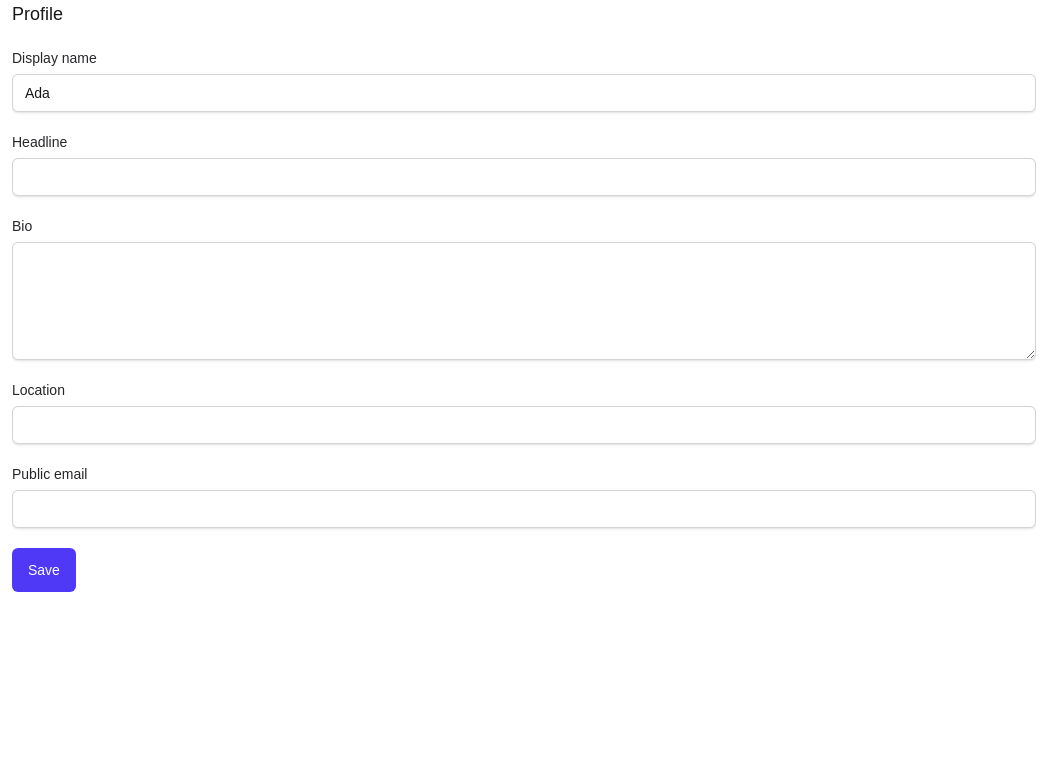
Scenario: ProfileEditor › preserves edits and offers recovery on a revision conflict
Replace the text in the field labelled "Display name" with "My local edit": (524, 93) [12,74,1036,112]
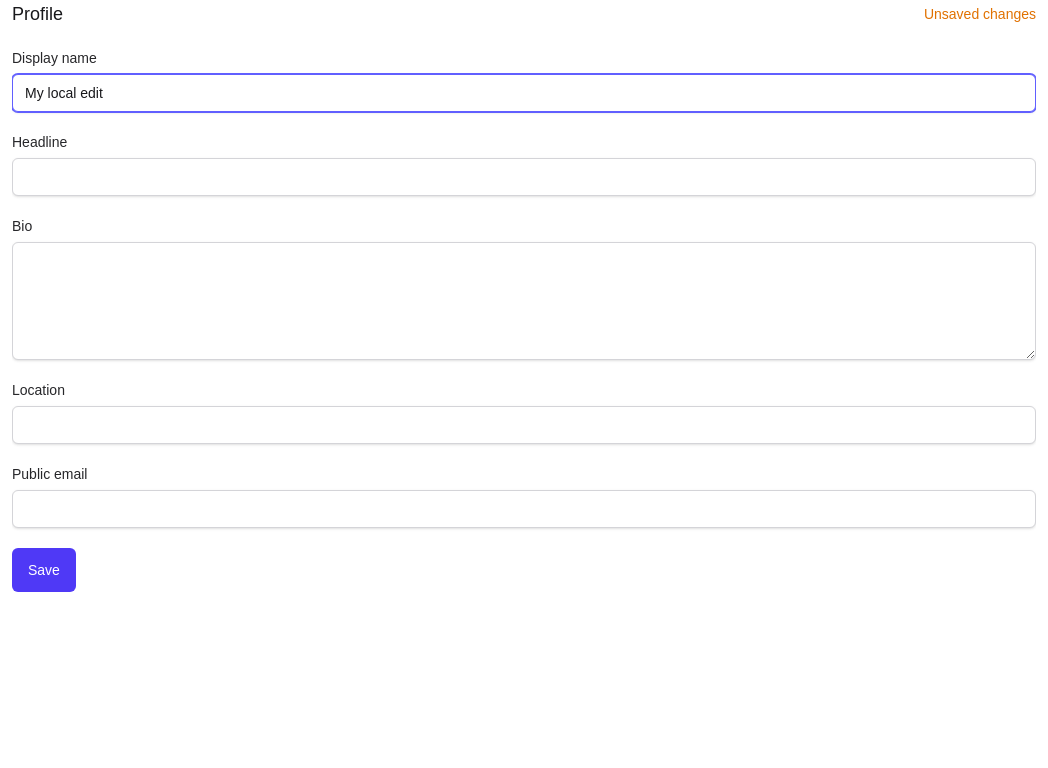
Click the button "Save": (44, 570) [12,548,76,592]
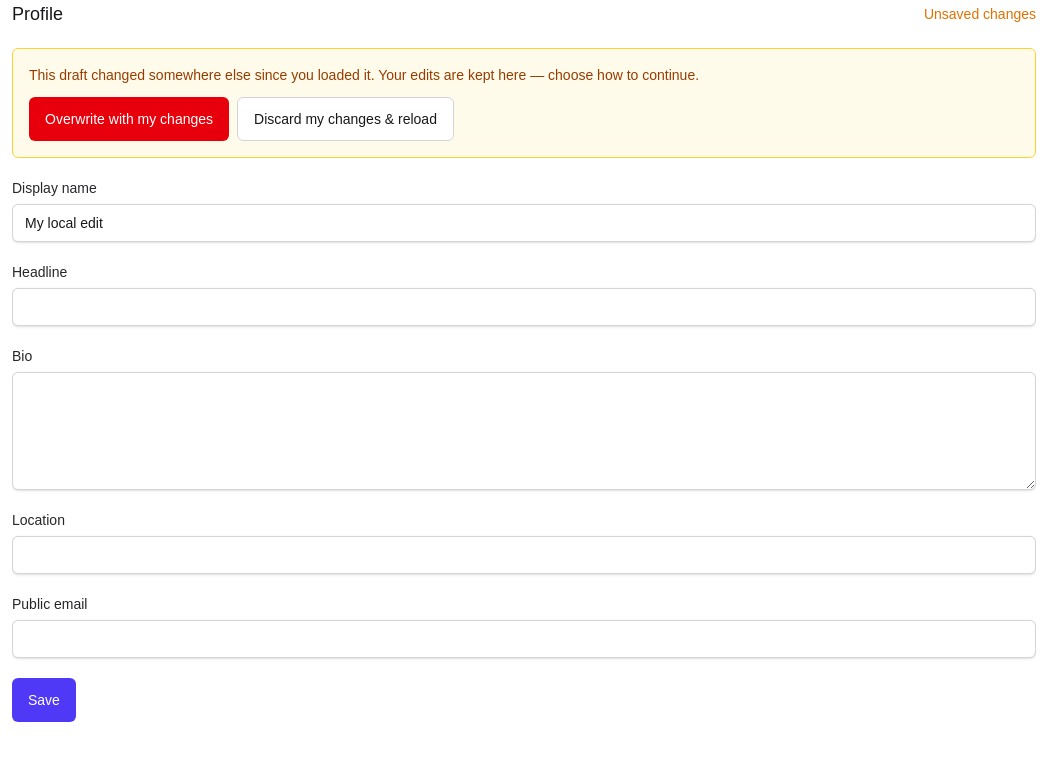
Expected: the button "Overwrite with my changes" is shown, [29,97,229,141]
